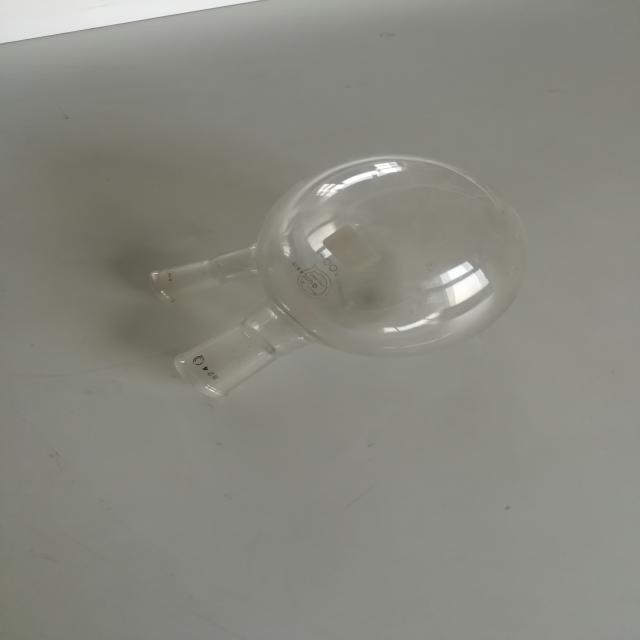Round_Bottom_Flask_Borosilicate_Glass_2_Neck: (97, 99, 569, 453)
